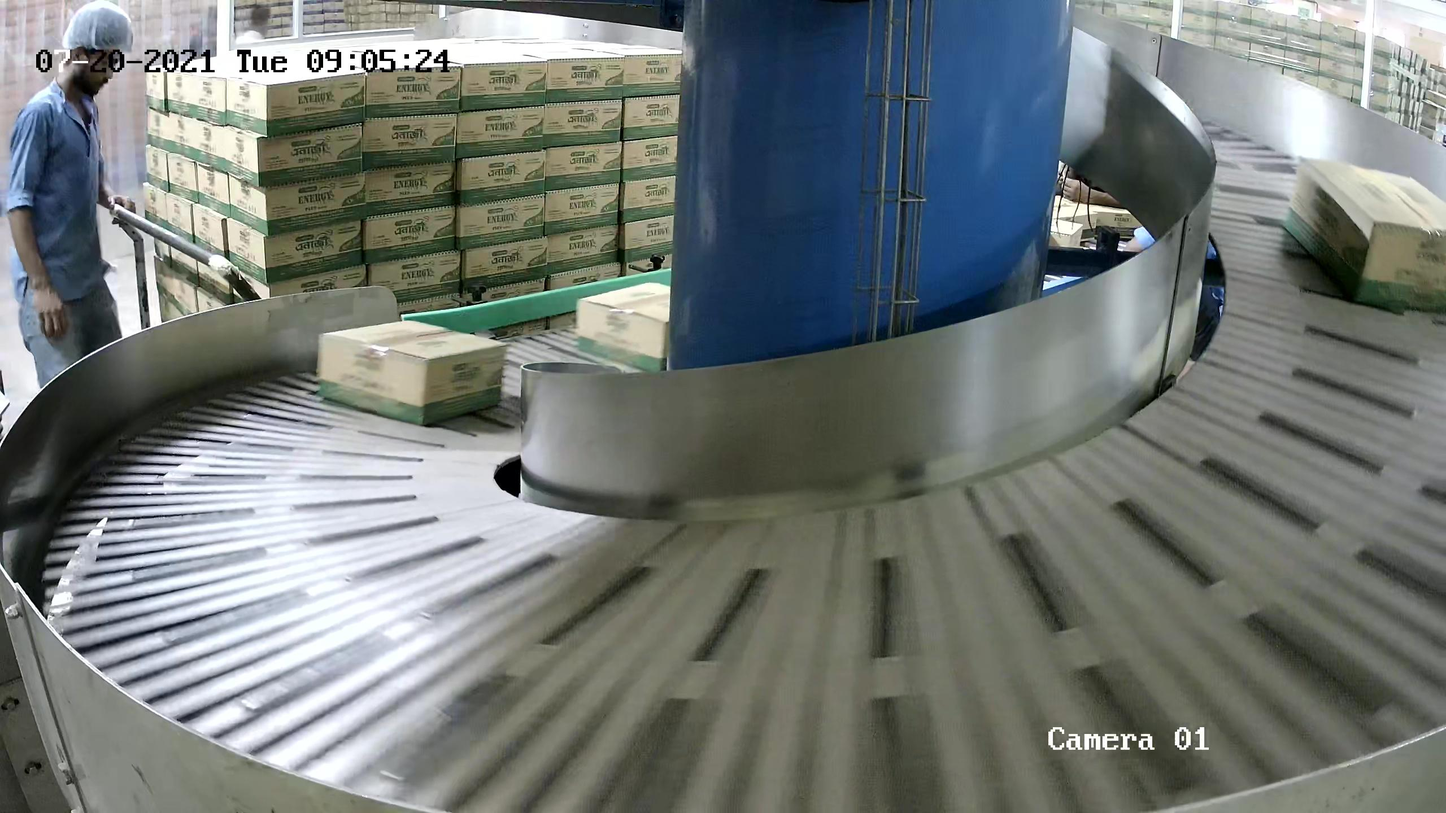Box: (1280, 152, 1446, 313), (317, 318, 509, 427), (575, 279, 715, 378)
